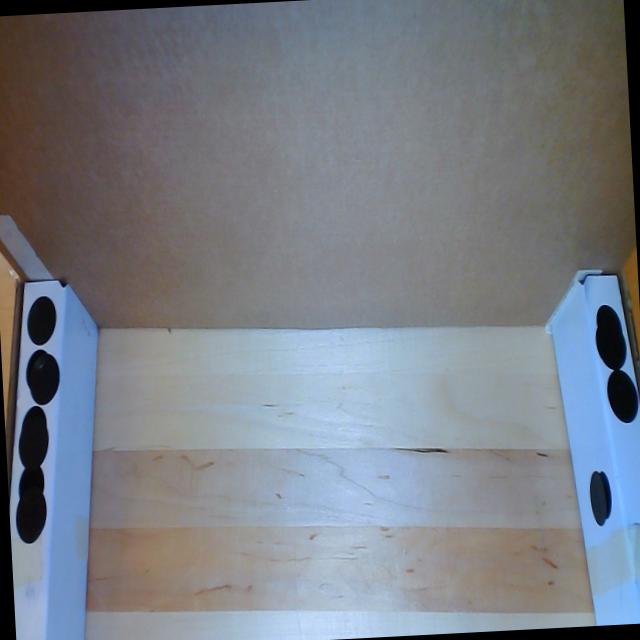Hole: (15, 464, 46, 503), (23, 348, 50, 392), (20, 405, 48, 440), (596, 303, 624, 337), (598, 469, 612, 523)
Sticker: (606, 368, 640, 427), (14, 490, 49, 546), (28, 352, 62, 406), (16, 418, 51, 470), (25, 294, 58, 348), (594, 322, 628, 372), (588, 470, 608, 528)
